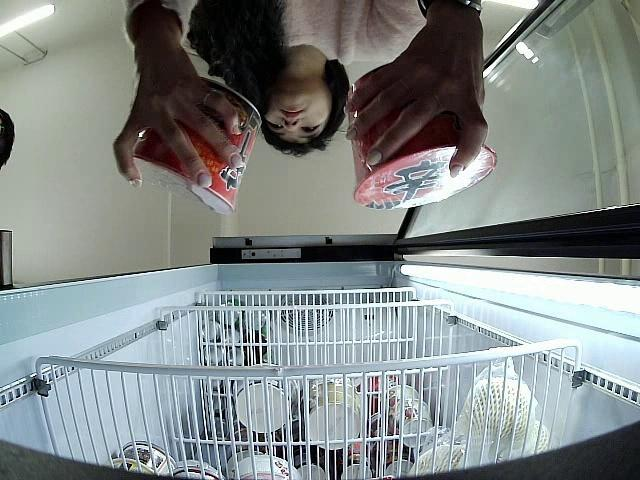01_ShinRamen_L: (348, 60, 498, 210), (133, 72, 264, 214)
